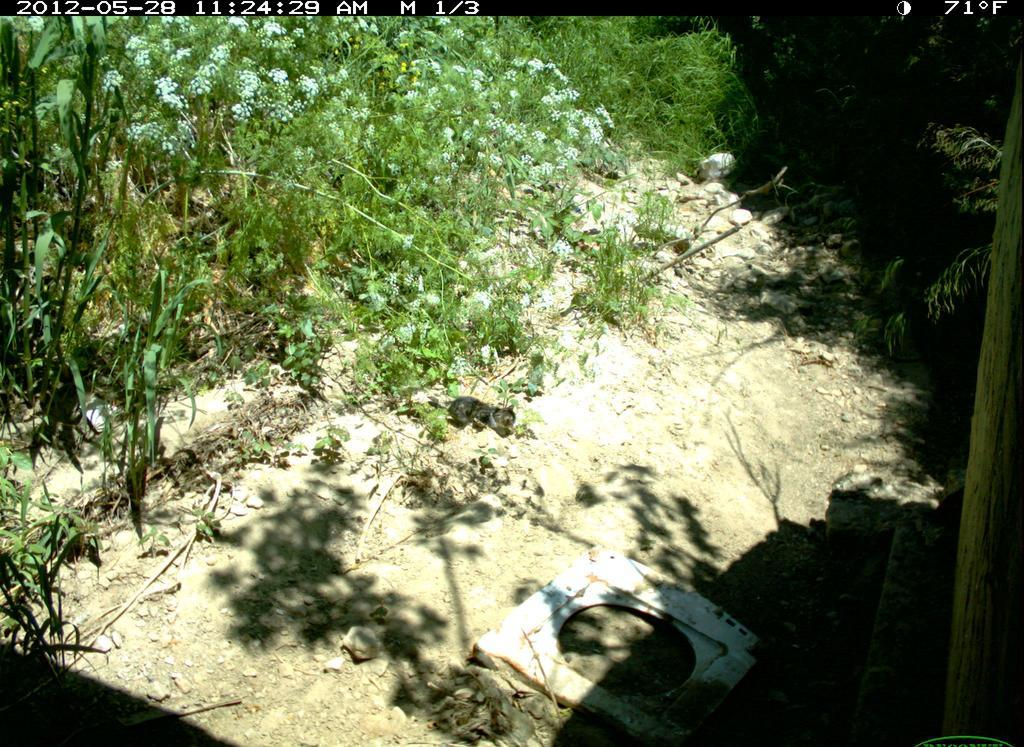cat: (421, 388, 520, 443)
